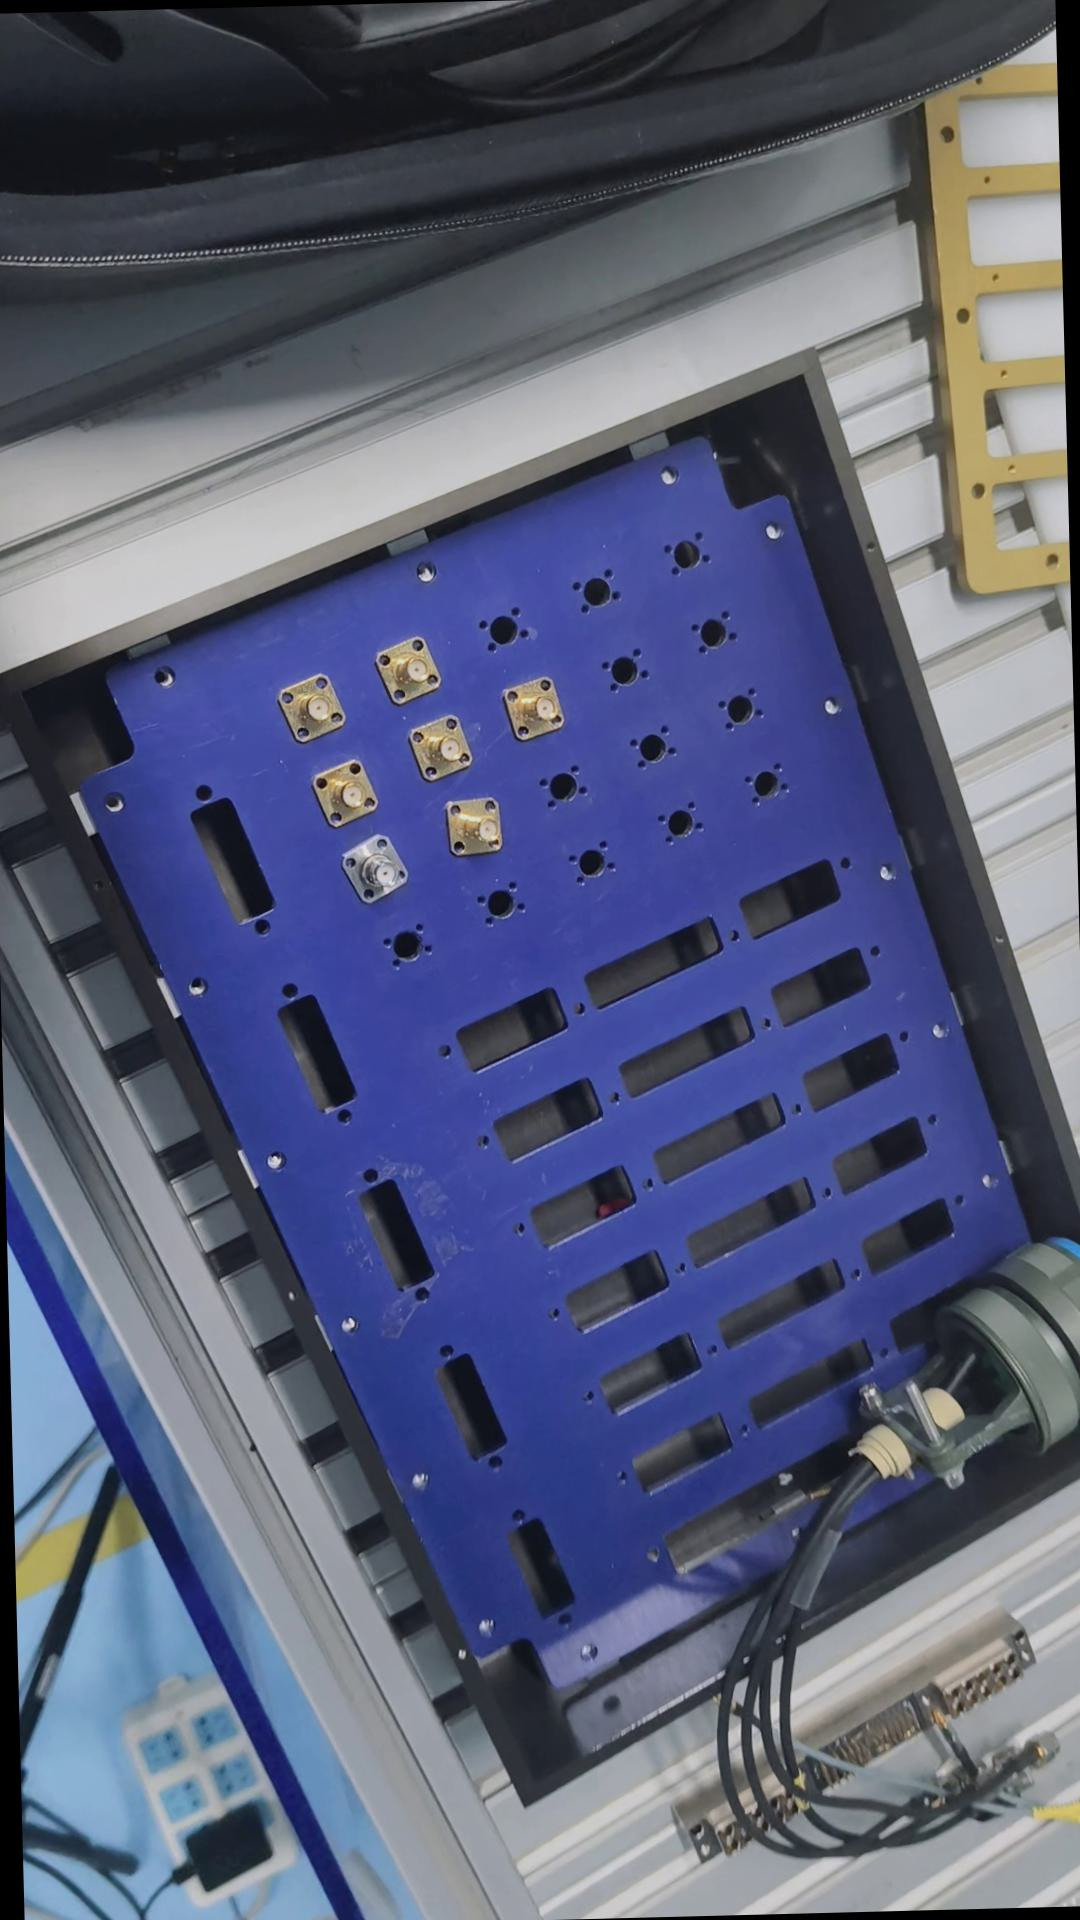SMA: (376, 630, 446, 708), (347, 829, 417, 902), (402, 711, 476, 777), (280, 674, 349, 740), (315, 764, 382, 827), (506, 675, 568, 744), (446, 800, 512, 856)
